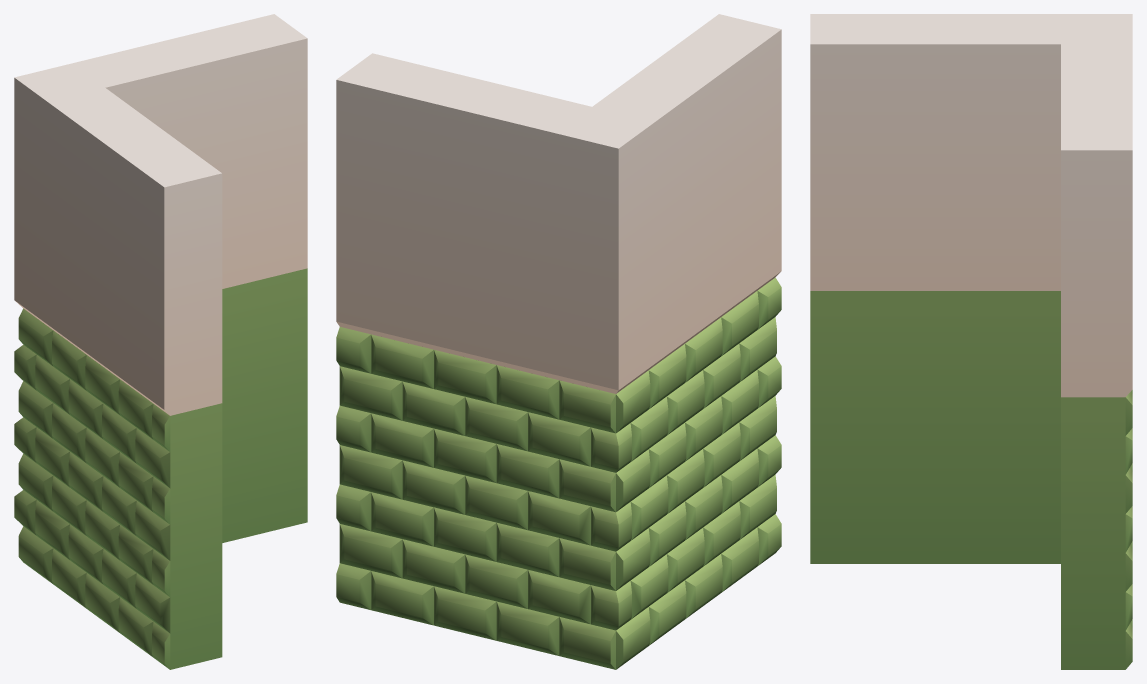
The model's file is Wall Tiles Kitchen-ypup5Vp53J.glb.
The picture shows the model from 3 angles, left to right: view 1: azimuth 30°, elevation 25°; view 2: azimuth 150°, elevation 25°; view 3: azimuth 270°, elevation 25°; orthographic projection. The views are drawn at different scales.
Parts seen in each view (by area): view 1: wall_tiles_kitchen_corner_outer; view 2: wall_tiles_kitchen_corner_outer; view 3: wall_tiles_kitchen_corner_outer.
Part boxes in pixels (<box>): wall_tiles_kitchen_corner_outer: <box>14,14,307,669</box>; wall_tiles_kitchen_corner_outer: <box>336,14,781,669</box>; wall_tiles_kitchen_corner_outer: <box>810,14,1132,669</box>.
Size of the model in its own units: 2.25 by 4 by 2.25.
Materials: 1 (1 with a texture image).
